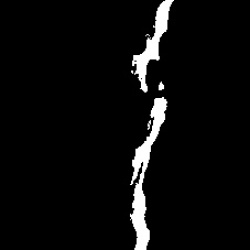crack: (129, 98, 167, 248), (133, 0, 173, 93)
pinhole: (159, 82, 164, 89)
